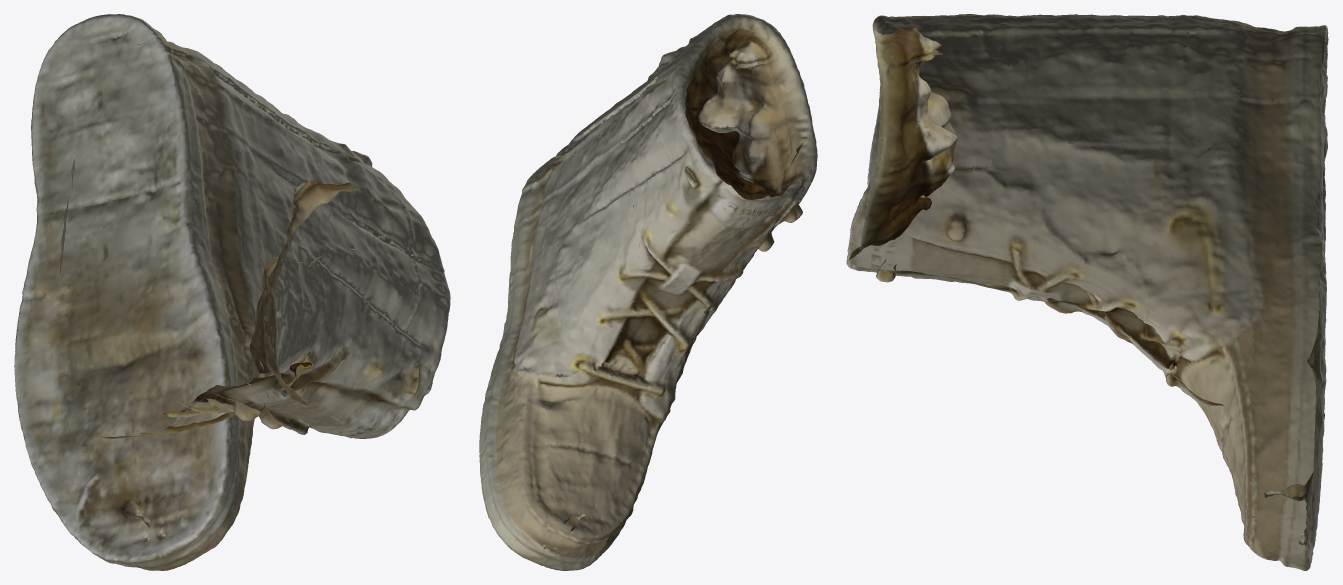
File: shoe1.glb
3 renders of one model, left to right at view 1: azimuth 30°, elevation 25°; view 2: azimuth 150°, elevation 25°; view 3: azimuth 270°, elevation 25°, orthographic. The views are drawn at different scales.
Size of the model in its own units: 0.4046 by 1 by 0.8306.
